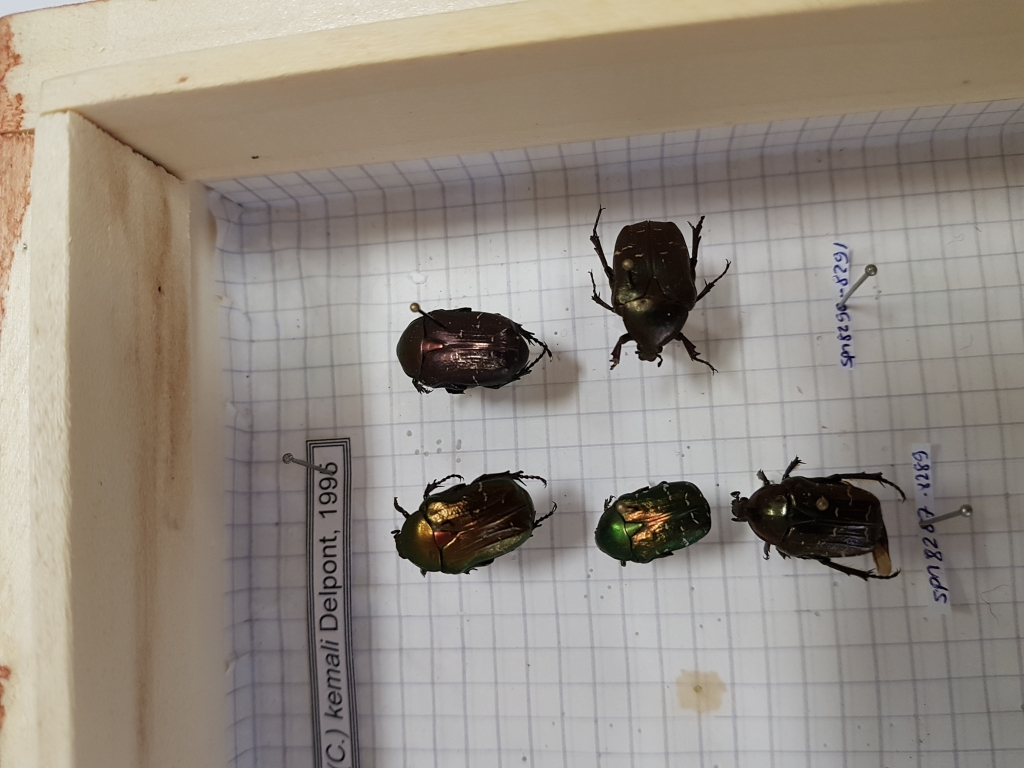Cetonia_kemali: (576, 197, 746, 392), (726, 440, 913, 594), (380, 463, 565, 590), (389, 305, 553, 403), (586, 473, 718, 566)
